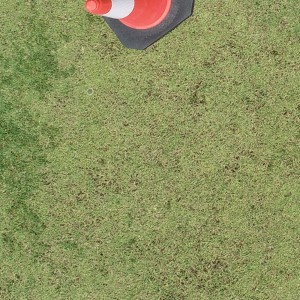traffic cone: (86, 1, 195, 50)
